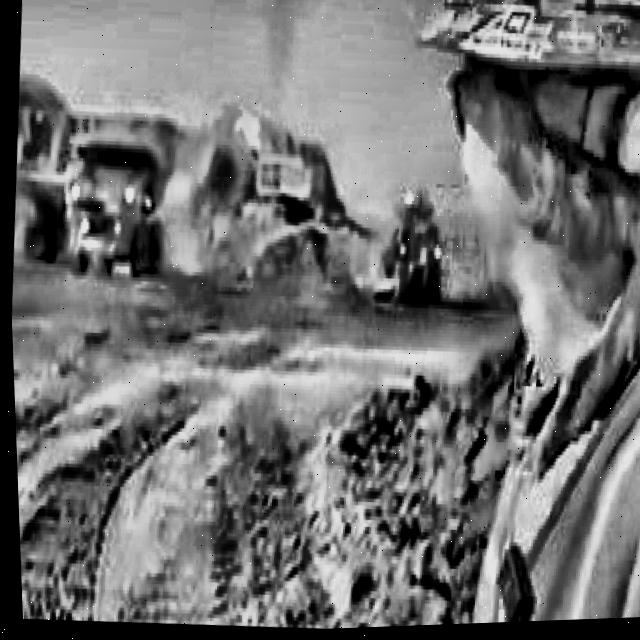dump_truck: (51, 115, 175, 290)
